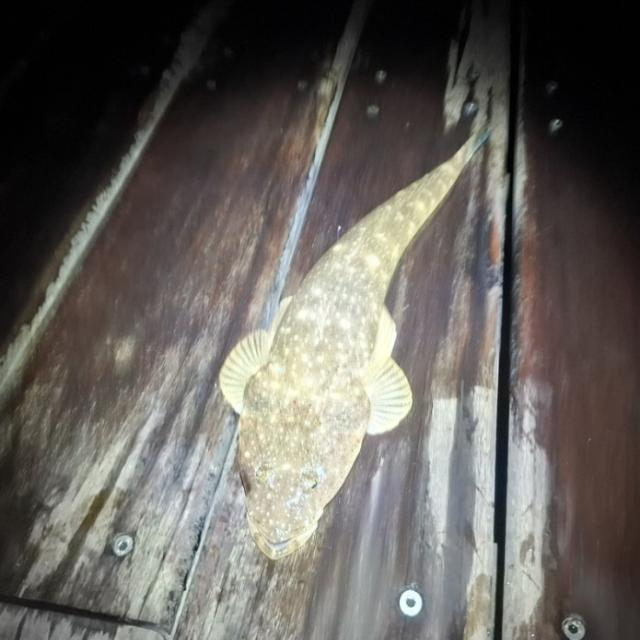Flathead: (216, 115, 501, 570)
